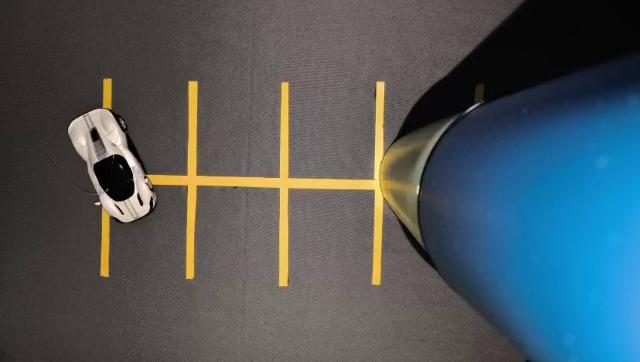toy_car: (54, 94, 174, 238)
